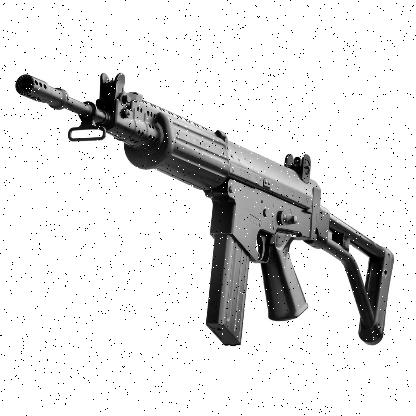gun: (8, 61, 402, 360)
